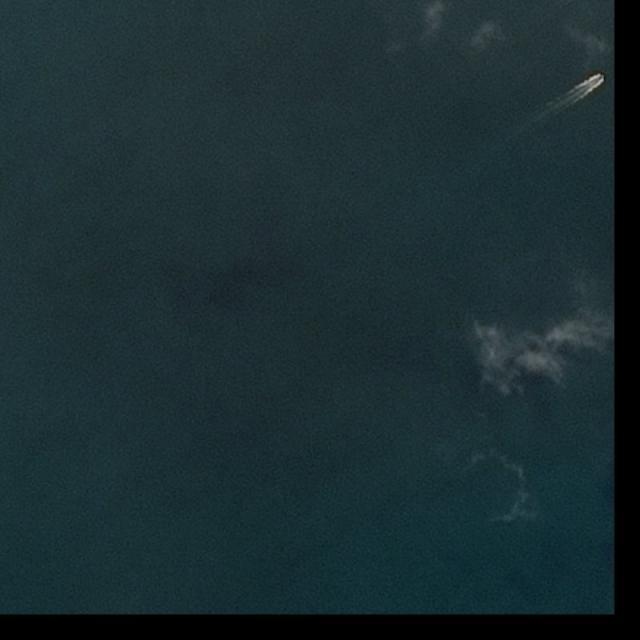ship: (595, 74, 606, 84)
